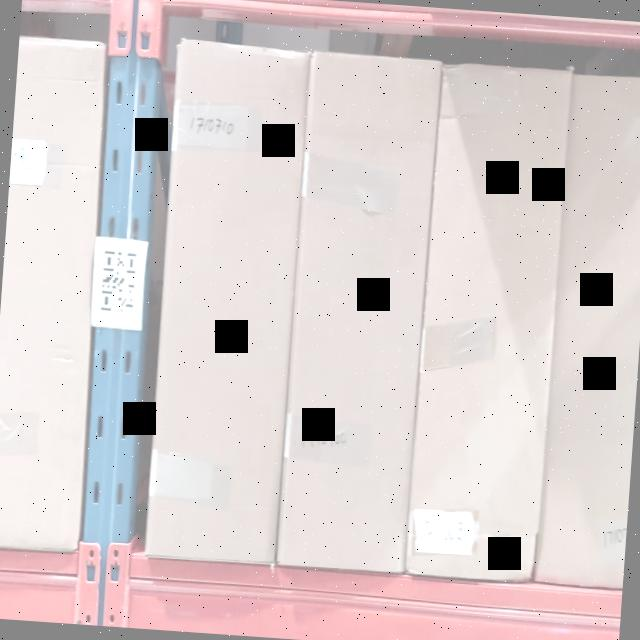box: (146, 42, 309, 566), (278, 53, 438, 570), (408, 66, 568, 574)
